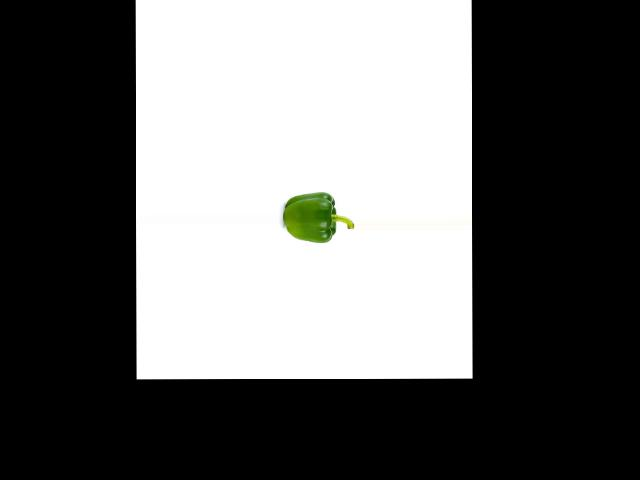bell_pepper: (283, 184, 352, 244)
